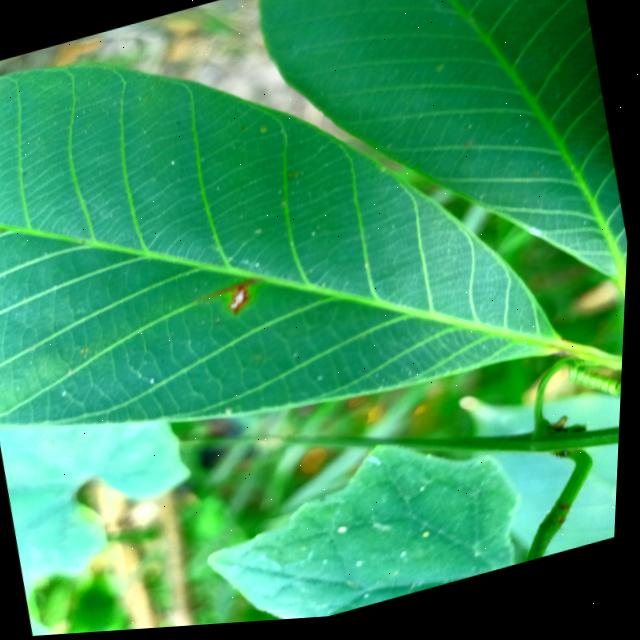Corynespora: (205, 279, 266, 325)
